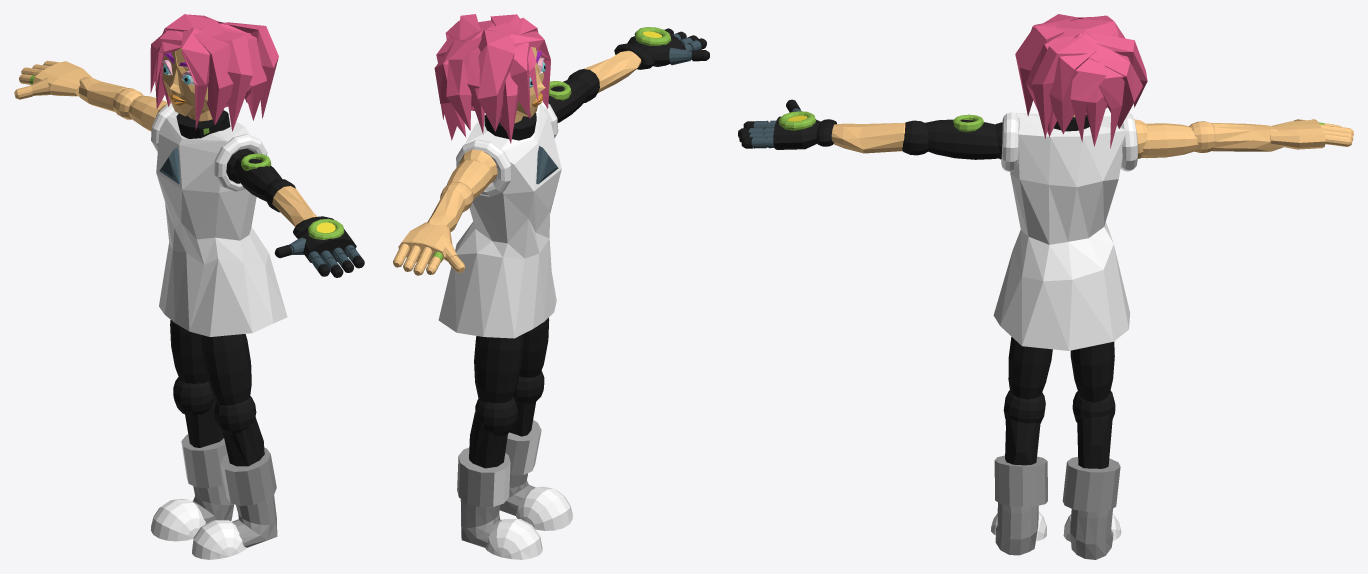
Rendered from aluna.fbx.
The picture shows the model from 3 angles, left to right: view 1: azimuth 30°, elevation 25°; view 2: azimuth 150°, elevation 25°; view 3: azimuth 270°, elevation 25°; orthographic projection. The views are drawn at different scales.
Parts seen in each view (by area): view 1: group_1193374391, mesh_499537126, group_2008680031, mesh_554842974, mesh_2143637169, mesh_1603962068, mesh_682475487, mesh_40055670, mesh_122326425, mesh_1413852730, mesh_328506441, mesh_1498833403 (+7 smaller); view 2: group_1193374391, mesh_499537126, group_2008680031, mesh_512939841, mesh_8903001, mesh_637490592, mesh_40055670, mesh_804132255, mesh_1348079762, mesh_2101288828, mesh_328506441, mesh_1603962068 (+9 smaller); view 3: mesh_499537126, group_1193374391, group_2008680031, mesh_682475487, mesh_328506441, mesh_2101288828, mesh_1379277755, mesh_804132255, mesh_2143637169, mesh_1164480434, mesh_40055670, mesh_8903001 (+3 smaller).
Boxes of the visible parts, bbox=[...] form: group_1193374391: bbox=[150, 320, 277, 559]; mesh_499537126: bbox=[156, 113, 287, 336]; group_2008680031: bbox=[234, 153, 364, 277]; mesh_554842974: bbox=[193, 20, 233, 124]; mesh_2143637169: bbox=[210, 31, 252, 131]; mesh_1603962068: bbox=[181, 28, 209, 129]; mesh_682475487: bbox=[220, 22, 278, 118]; mesh_40055670: bbox=[32, 61, 92, 96]; mesh_122326425: bbox=[214, 134, 267, 191]; mesh_1413852730: bbox=[162, 48, 208, 116]; mesh_328506441: bbox=[78, 77, 127, 112]; mesh_1498833403: bbox=[223, 27, 266, 120]; group_1193374391: bbox=[457, 317, 572, 559]; mesh_499537126: bbox=[438, 103, 561, 338]; group_2008680031: bbox=[548, 27, 709, 122]; mesh_512939841: bbox=[475, 30, 514, 131]; mesh_8903001: bbox=[446, 36, 481, 130]; mesh_637490592: bbox=[456, 139, 511, 196]; mesh_40055670: bbox=[398, 222, 452, 264]; mesh_804132255: bbox=[434, 30, 483, 137]; mesh_1348079762: bbox=[510, 42, 530, 118]; mesh_2101288828: bbox=[446, 160, 492, 199]; mesh_328506441: bbox=[427, 189, 465, 231]; mesh_1603962068: bbox=[510, 31, 550, 108]; mesh_499537126: bbox=[993, 113, 1129, 350]; group_1193374391: bbox=[991, 337, 1121, 559]; group_2008680031: bbox=[738, 99, 1001, 159]; mesh_682475487: bbox=[1031, 35, 1095, 139]; mesh_328506441: bbox=[1211, 123, 1282, 151]; mesh_2101288828: bbox=[1141, 123, 1198, 158]; mesh_1379277755: bbox=[1049, 33, 1096, 134]; mesh_804132255: bbox=[1084, 32, 1142, 128]; mesh_2143637169: bbox=[1015, 22, 1064, 116]; mesh_1164480434: bbox=[1070, 38, 1106, 142]; mesh_40055670: bbox=[1270, 120, 1325, 149]; mesh_8903001: bbox=[1090, 33, 1147, 107].
Size of the model in its own units: 222 by 779 by 831.
